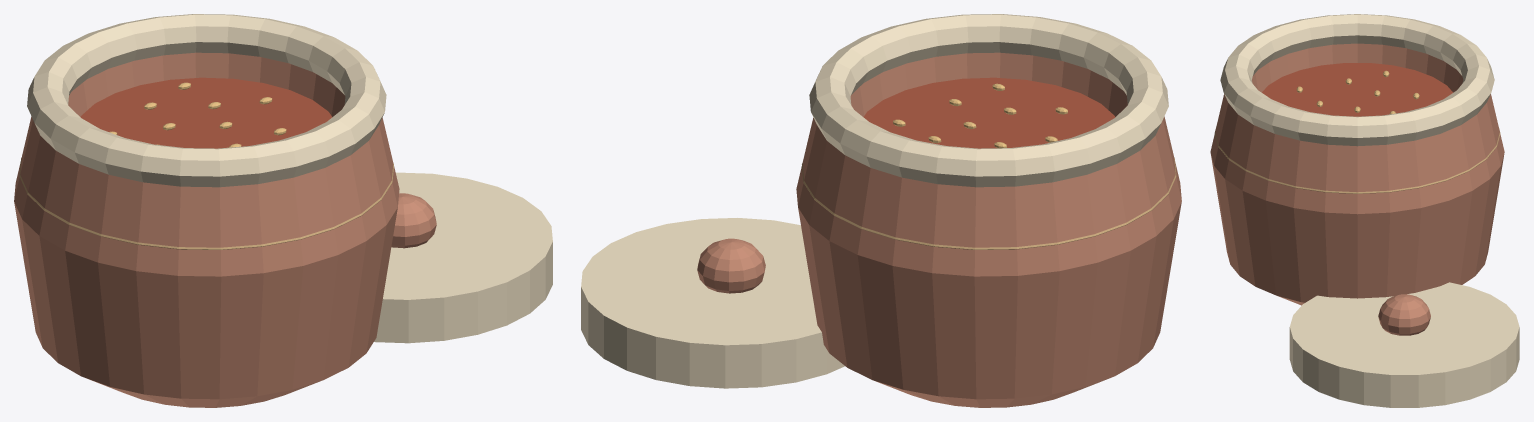
File: spice_jar.glb
The picture shows the model from 3 angles, left to right: view 1: azimuth 30°, elevation 25°; view 2: azimuth 150°, elevation 25°; view 3: azimuth 270°, elevation 25°; orthographic projection. The views are drawn at different scales.
Visible parts, largest first — view 1: spice_jar_curved_body, spice_jar_rolled_lip, spice_jar_lid_leaning, visible_spice_oil, lid_knob, tied_twine_band; view 2: spice_jar_curved_body, spice_jar_lid_leaning, spice_jar_rolled_lip, visible_spice_oil, lid_knob, tied_twine_band; view 3: spice_jar_curved_body, spice_jar_lid_leaning, spice_jar_rolled_lip, visible_spice_oil, lid_knob, tied_twine_band.
Part boxes in pixels (box(x1,y1,x2,y2)): spice_jar_curved_body: box(14, 52, 399, 407); spice_jar_rolled_lip: box(27, 14, 386, 187); spice_jar_lid_leaning: box(374, 172, 552, 343); visible_spice_oil: box(80, 77, 332, 148); lid_knob: box(391, 193, 436, 248); tied_twine_band: box(19, 158, 393, 249); spice_jar_curved_body: box(796, 52, 1181, 407); spice_jar_lid_leaning: box(581, 218, 844, 388); spice_jar_rolled_lip: box(809, 14, 1168, 187); visible_spice_oil: box(863, 77, 1115, 148); lid_knob: box(697, 238, 765, 293); tied_twine_band: box(802, 158, 1176, 249); spice_jar_curved_body: box(1210, 43, 1504, 305); spice_jar_lid_leaning: box(1289, 282, 1519, 407); spice_jar_rolled_lip: box(1220, 14, 1494, 146); visible_spice_oil: box(1262, 63, 1453, 116); lid_knob: box(1378, 294, 1430, 335); tied_twine_band: box(1214, 128, 1500, 193).
Size of the model in its own units: 0.557 by 0.282 by 0.374.
